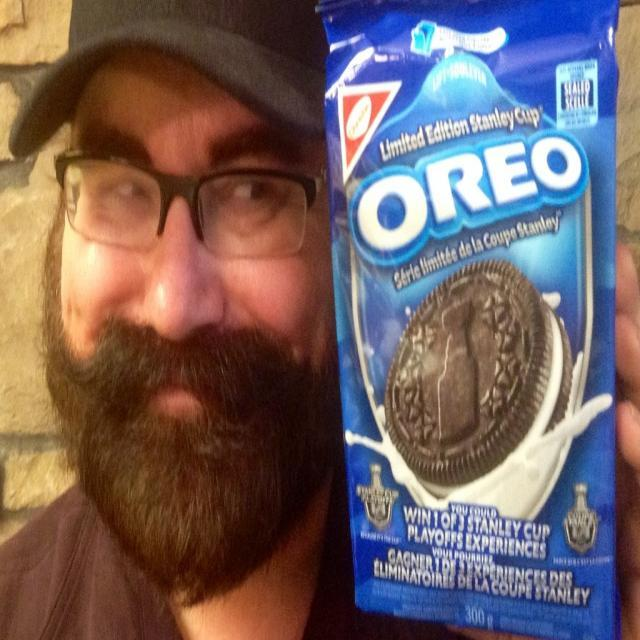Cookie: (380, 254, 571, 502)
